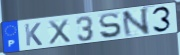3: (149, 5, 173, 33), (75, 15, 94, 43)
K: (24, 22, 44, 47)
N: (121, 7, 151, 39)
S: (97, 12, 123, 39)
X: (47, 18, 73, 46)
